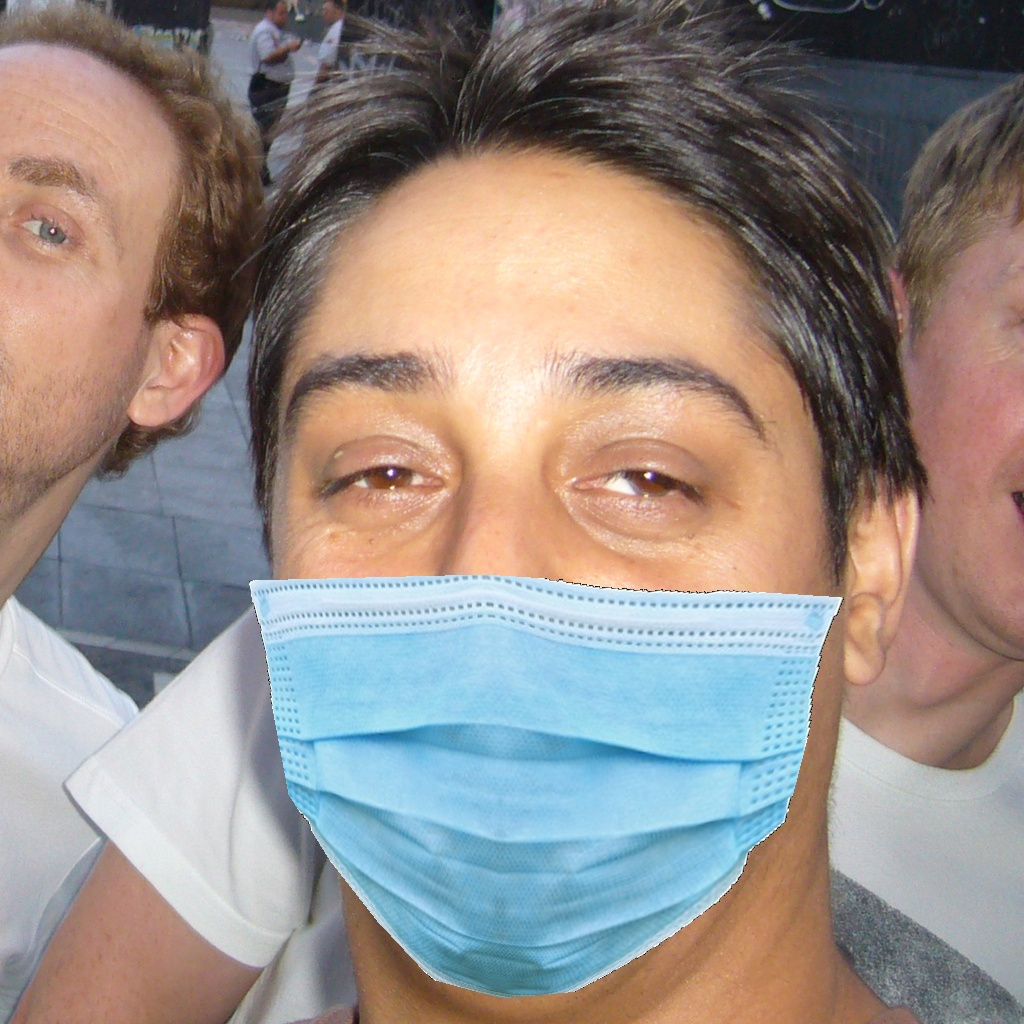Mask: (243, 317, 851, 996)
